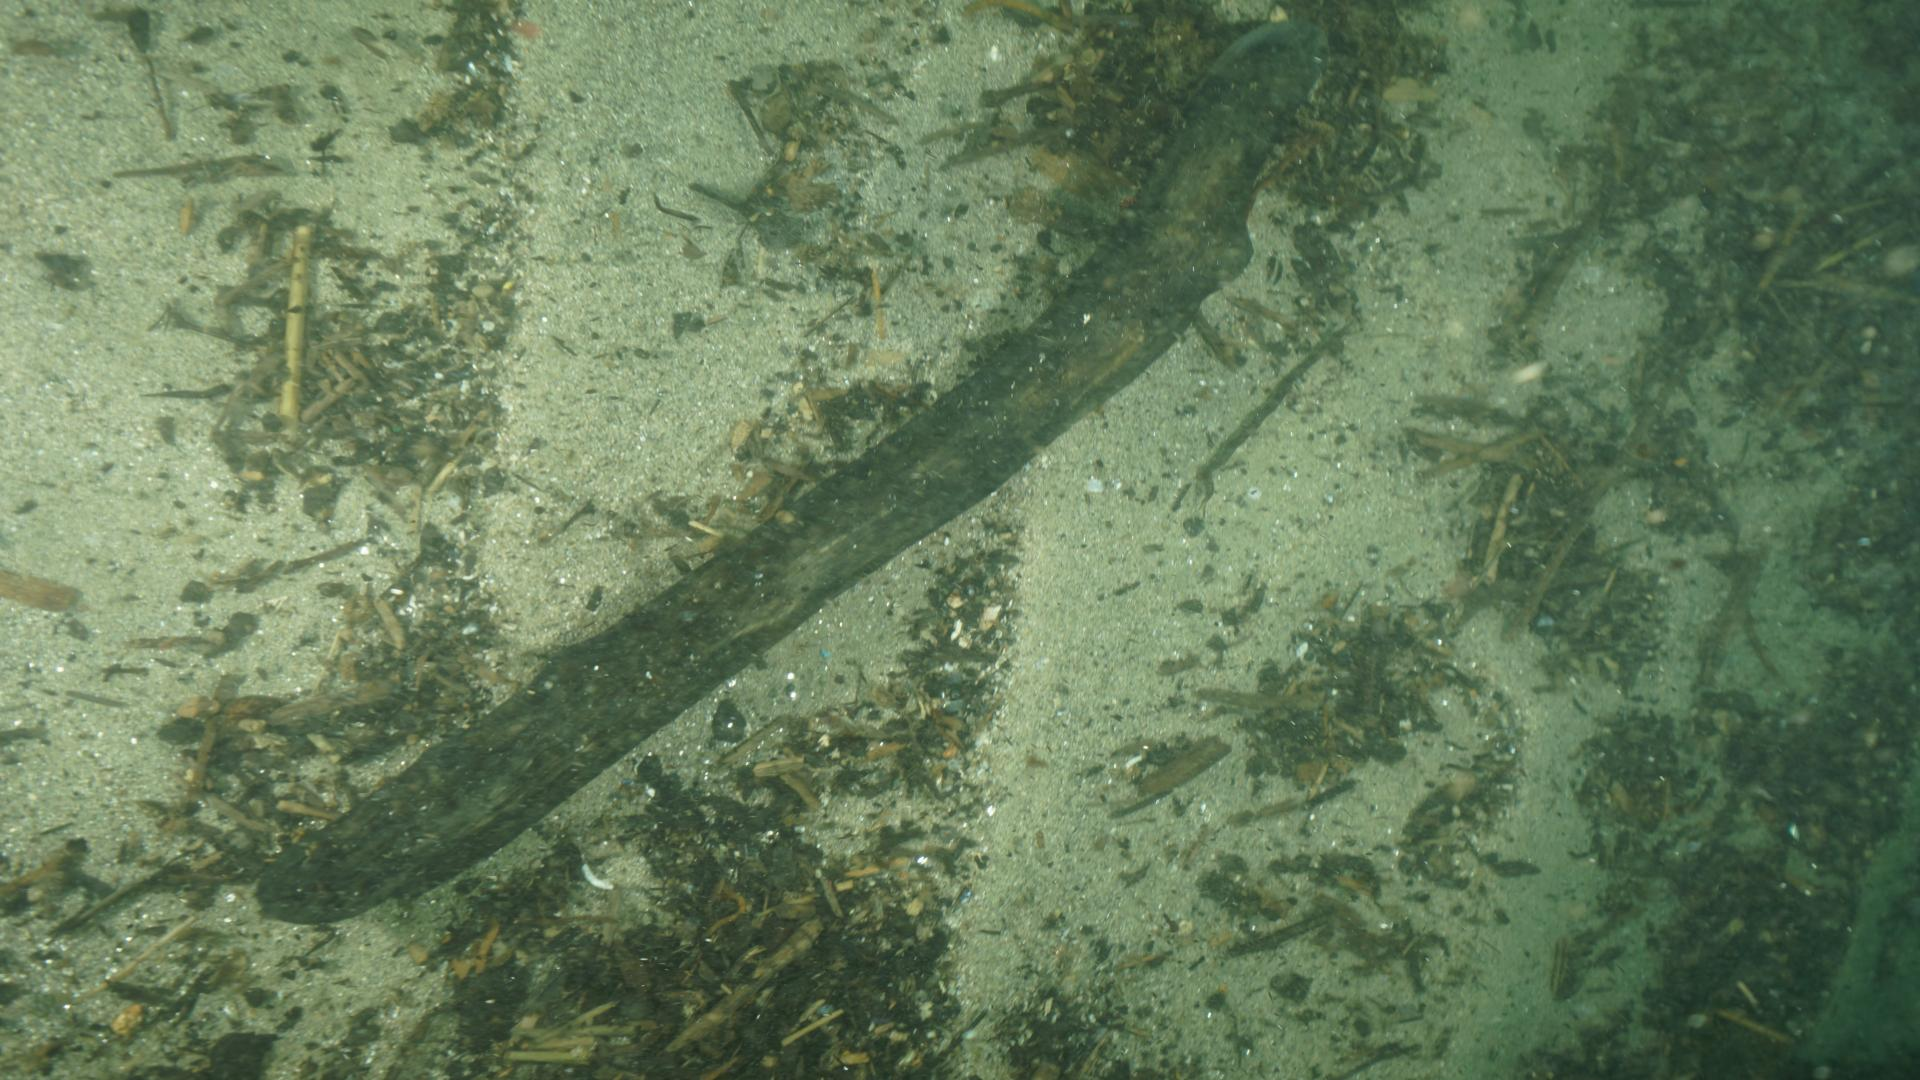wood: (255, 18, 1328, 920)
